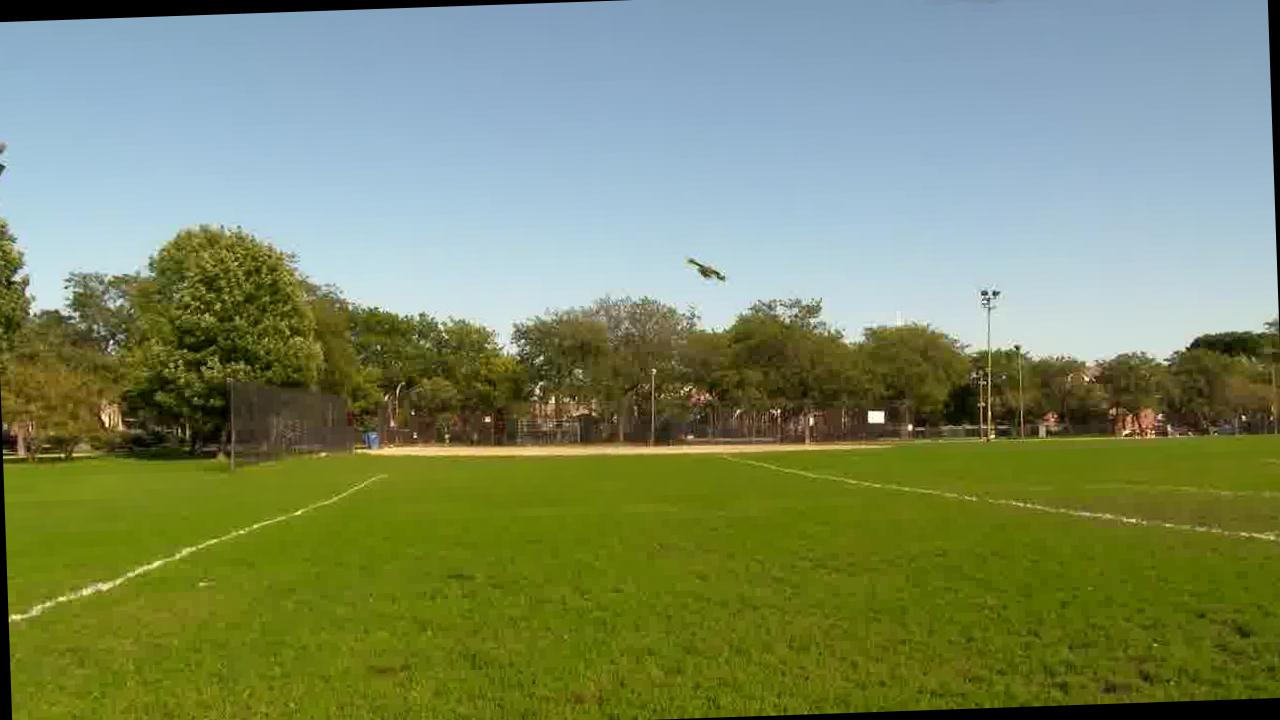drone: (680, 236, 736, 289)
